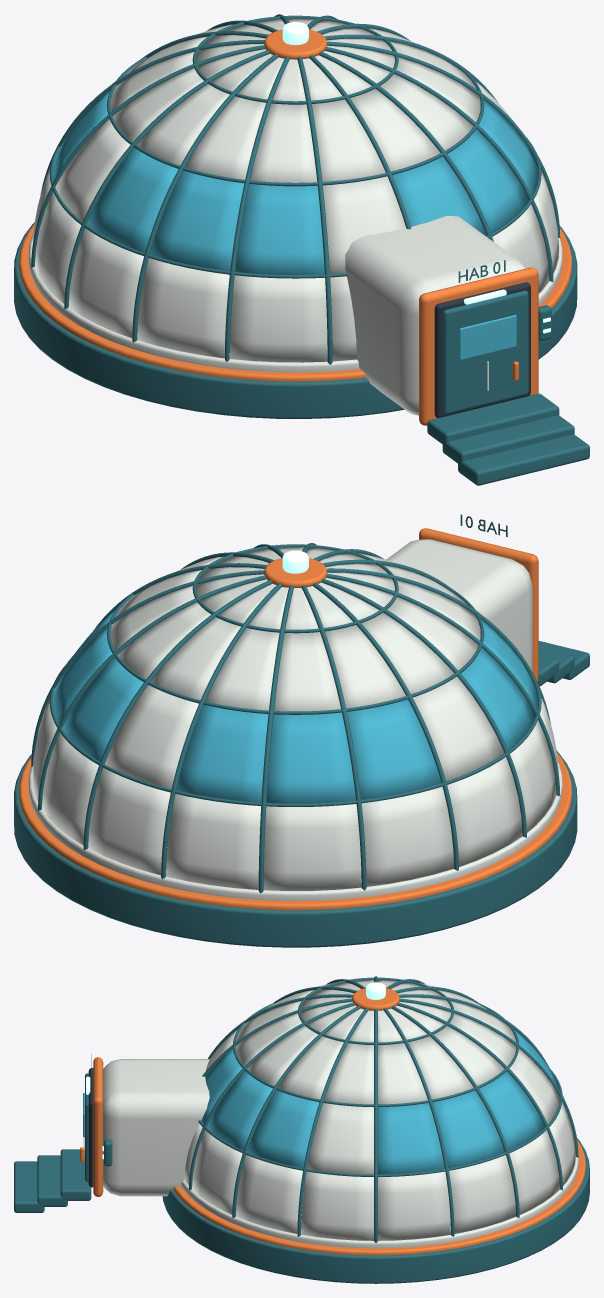
Rendered from Habitat_With_Workbench.glb.
3 views of the same model, one above another, from view 1: azimuth 30°, elevation 25°; view 2: azimuth 150°, elevation 25°; view 3: azimuth 270°, elevation 25° (orthographic). The views are drawn at different scales.
Parts seen in each view (by area): view 1: Habitat foundation, Airlock vestibule, Dome panel 10.0, Dome panel 09.0, Airlock sliding door, Dome panel 10.1, Dome panel 09.1, Dome panel 08.0, Dome panel 08.1, Safety perimeter, Dome panel 11.1, Front safety surround (+47 smaller); view 2: Habitat foundation, Dome panel 05.0, Dome panel 04.0, Airlock vestibule, Dome panel 06.0, Safety perimeter, Dome panel 05.1, Dome panel 04.1, Dome panel 06.1, Dome panel 03.0, Pressure floor, Dome panel 03.1 (+46 smaller); view 3: Habitat foundation, Airlock vestibule, Dome panel 00.0, Dome panel 15.0, Dome panel 00.1, Dome panel 15.1, Dome panel 14.0, Dome panel 01.0, Safety perimeter, Dome panel 01.1, Dome panel 14.1, Pressure floor (+43 smaller).
Part boxes in pixels (box(x1,y1,x2,y2)): Habitat foundation: box(14, 222, 577, 418); Airlock vestibule: box(345, 216, 526, 415); Dome panel 10.0: box(229, 275, 327, 362); Dome panel 09.0: box(137, 258, 229, 358); Airlock sliding door: box(442, 290, 528, 414); Dome panel 10.1: box(235, 184, 324, 274); Dome panel 09.1: box(149, 170, 244, 271); Dome panel 08.0: box(68, 228, 143, 338); Dome panel 08.1: box(87, 148, 178, 252); Safety perimeter: box(19, 224, 572, 381); Dome panel 11.1: box(322, 176, 405, 273); Front safety surround: box(419, 267, 538, 425); Habitat foundation: box(14, 751, 577, 947); Dome panel 05.0: box(263, 804, 361, 890); Dome panel 04.0: box(166, 794, 260, 889); Airlock vestibule: box(386, 539, 532, 671); Dome panel 06.0: box(361, 786, 453, 886); Safety perimeter: box(19, 752, 572, 910); Dome panel 05.1: box(266, 712, 355, 803); Dome panel 04.1: box(176, 705, 268, 802); Dome panel 06.1: box(347, 699, 441, 799); Dome panel 03.0: box(88, 768, 170, 875); Pressure floor: box(28, 762, 562, 900); Dome panel 03.1: box(105, 685, 198, 788); Habitat foundation: box(162, 1138, 589, 1283); Airlock vestibule: box(103, 1059, 209, 1196); Dome panel 00.0: box(378, 1171, 450, 1240); Dome panel 15.0: box(301, 1171, 373, 1240); Dome panel 00.1: box(378, 1103, 444, 1174); Dome panel 15.1: box(307, 1103, 373, 1174); Dome panel 14.0: box(236, 1155, 302, 1233); Dome panel 01.0: box(449, 1155, 515, 1233); Safety perimeter: box(173, 1139, 585, 1255); Dome panel 01.1: box(432, 1090, 504, 1167); Dome panel 14.1: box(247, 1090, 319, 1167); Pressure floor: box(181, 1157, 578, 1248).
Bounding box in the file's own units: 7.7 × 4.14 × 10.36.
